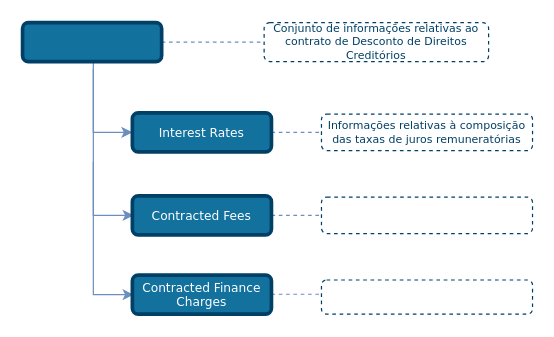
Some shapes in this 554 by 337 pixel diagram are drawn without their labels. Each missing label, with the box of its shape:
Data: (20, 20, 163, 63)
Informações relativas aos encargos pactuados no contrato: (320, 279, 533, 314)
Informações relativas às tarifas pactuadas no contrato: (320, 196, 533, 234)
